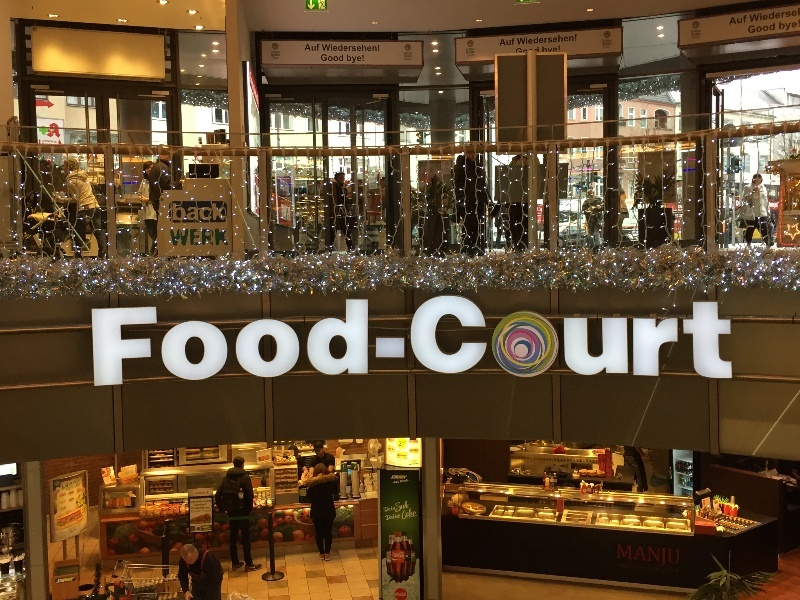text: (97, 288, 112, 387), (113, 288, 128, 387), (129, 288, 144, 387), (145, 288, 160, 387), (161, 288, 176, 387), (177, 288, 192, 387), (193, 288, 208, 387), (209, 288, 224, 387), (225, 288, 240, 387), (241, 288, 256, 387), (257, 288, 272, 387), (273, 288, 288, 387), (289, 288, 304, 387), (305, 288, 320, 387), (321, 288, 336, 387), (337, 288, 352, 387), (353, 288, 368, 387), (369, 288, 384, 387), (385, 288, 400, 387), (401, 288, 416, 387), (417, 288, 432, 387), (433, 288, 448, 387), (449, 288, 464, 387), (465, 288, 480, 387), (577, 297, 592, 380), (593, 297, 608, 380), (609, 297, 624, 380), (625, 297, 640, 380), (641, 297, 656, 380), (657, 297, 672, 380), (673, 297, 688, 380), (689, 297, 704, 380), (705, 297, 720, 380), (721, 297, 735, 380), (563, 297, 576, 380), (481, 288, 489, 387), (89, 288, 96, 387), (625, 545, 640, 569), (641, 545, 656, 569), (657, 545, 672, 569), (193, 490, 208, 514), (209, 204, 225, 221), (177, 228, 192, 246), (193, 228, 208, 246), (209, 228, 224, 246), (177, 204, 192, 221), (193, 204, 208, 221), (65, 479, 81, 494), (753, 8, 768, 23), (769, 8, 784, 23), (785, 8, 800, 23), (785, 20, 800, 33), (251, 71, 256, 108), (402, 508, 416, 521), (753, 22, 768, 34), (561, 34, 577, 45), (617, 545, 624, 569), (673, 545, 680, 569), (529, 34, 544, 45), (545, 34, 560, 45), (280, 178, 288, 195), (281, 204, 288, 222), (517, 34, 528, 45), (737, 15, 748, 26), (385, 513, 400, 521), (321, 54, 336, 62), (337, 44, 352, 52), (353, 44, 368, 52), (401, 501, 410, 514), (322, 44, 336, 52), (353, 55, 364, 65), (170, 228, 176, 246), (625, 564, 640, 571), (307, 44, 320, 51), (657, 567, 672, 573), (769, 202, 784, 208), (737, 201, 752, 207), (385, 505, 396, 513), (369, 44, 380, 52), (769, 22, 776, 34), (502, 38, 512, 46), (65, 576, 75, 584), (257, 71, 259, 108), (225, 228, 229, 246), (209, 490, 212, 514), (779, 20, 784, 33), (337, 54, 344, 62), (57, 576, 64, 584), (396, 501, 400, 514), (173, 204, 176, 221), (347, 55, 352, 65), (393, 551, 400, 558), (401, 551, 408, 558), (617, 564, 624, 571), (404, 54, 416, 58), (748, 22, 752, 34), (749, 8, 752, 23), (732, 15, 736, 26), (466, 48, 480, 51), (649, 567, 656, 573), (403, 52, 416, 55), (467, 54, 480, 57), (467, 51, 480, 54), (401, 479, 410, 483), (401, 441, 407, 447), (404, 58, 416, 61), (289, 204, 291, 222), (673, 567, 679, 573), (389, 448, 400, 451), (392, 475, 400, 479), (401, 592, 407, 597), (62, 479, 64, 494), (393, 481, 400, 485), (401, 475, 408, 479), (401, 453, 407, 457), (296, 184, 304, 187), (273, 54, 280, 57), (273, 51, 280, 54), (641, 564, 644, 571), (273, 57, 279, 60), (513, 38, 515, 46), (397, 592, 400, 597), (411, 449, 416, 452), (409, 464, 416, 466), (417, 508, 418, 521), (383, 505, 384, 513), (399, 441, 400, 447), (417, 449, 419, 452), (399, 453, 400, 457), (271, 51, 272, 54)
